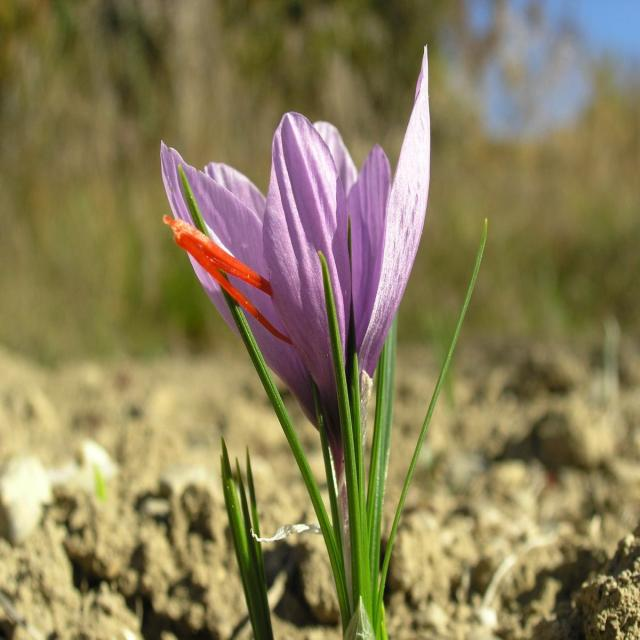saffron open: (162, 58, 430, 473)
